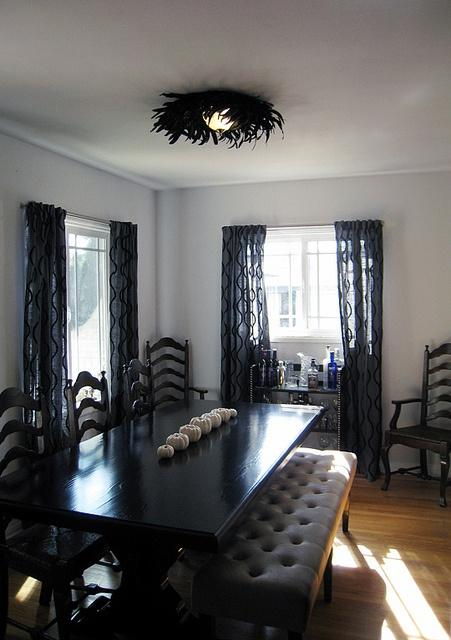Kursi: (380, 340, 450, 506)
Meja: (0, 401, 328, 551)
